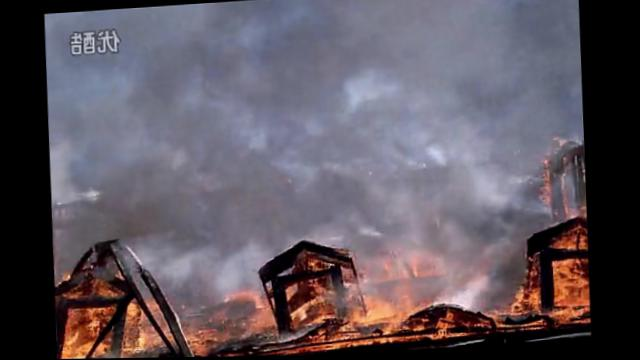fire: (274, 331, 472, 355), (62, 305, 115, 357), (552, 259, 591, 308), (361, 294, 406, 324), (120, 302, 143, 353), (529, 255, 542, 314), (554, 309, 593, 326), (330, 324, 363, 343), (554, 231, 580, 250), (512, 290, 529, 315), (581, 225, 589, 252), (439, 316, 456, 328), (385, 323, 401, 334)
